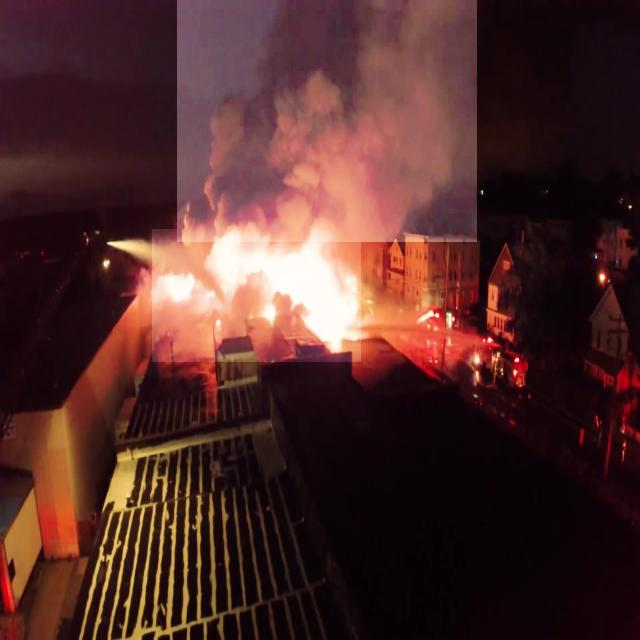Fire: (152, 229, 361, 362)
Smoke: (177, 0, 477, 242)
